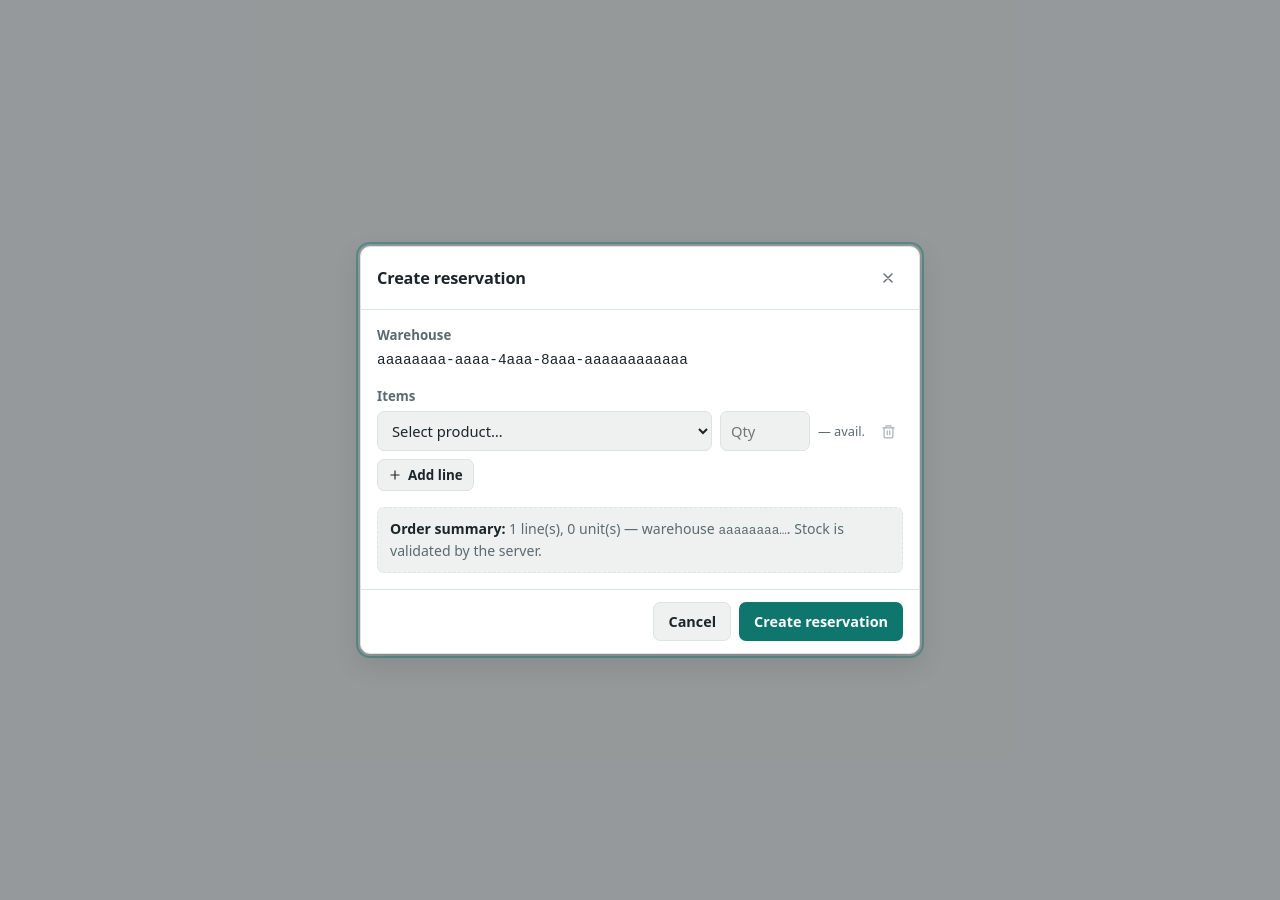
Test: CreateReservationModal › rejects duplicate products consistently with the backend contract
The image size is (1280, 900).
Select "bbbbbbbb…" in the dropdown named "Product for line". click: (544,431)
box: [377,411,712,451]
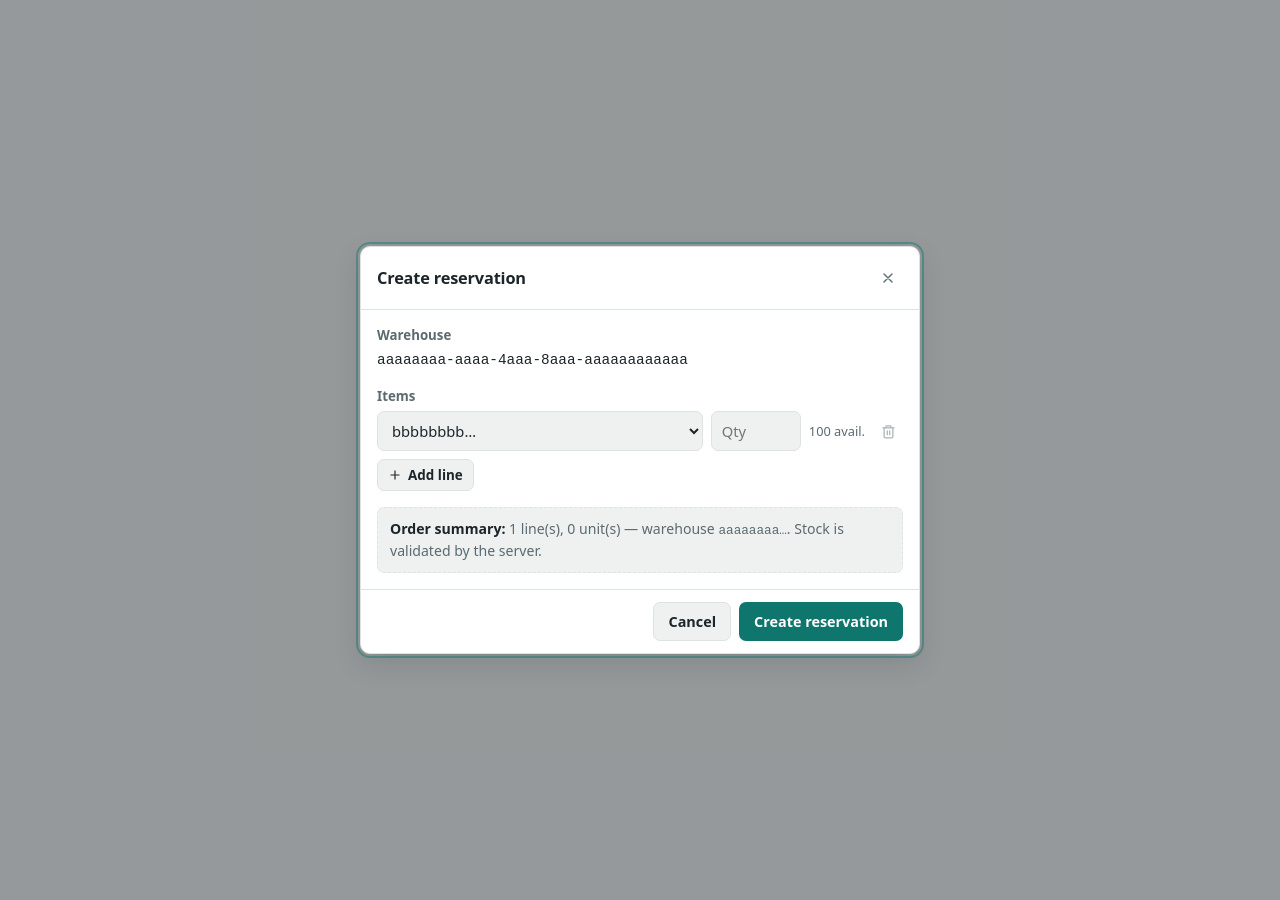
Type "2" into the field named "Quantity for line". click: (756,431)
box: [711,411,801,451]
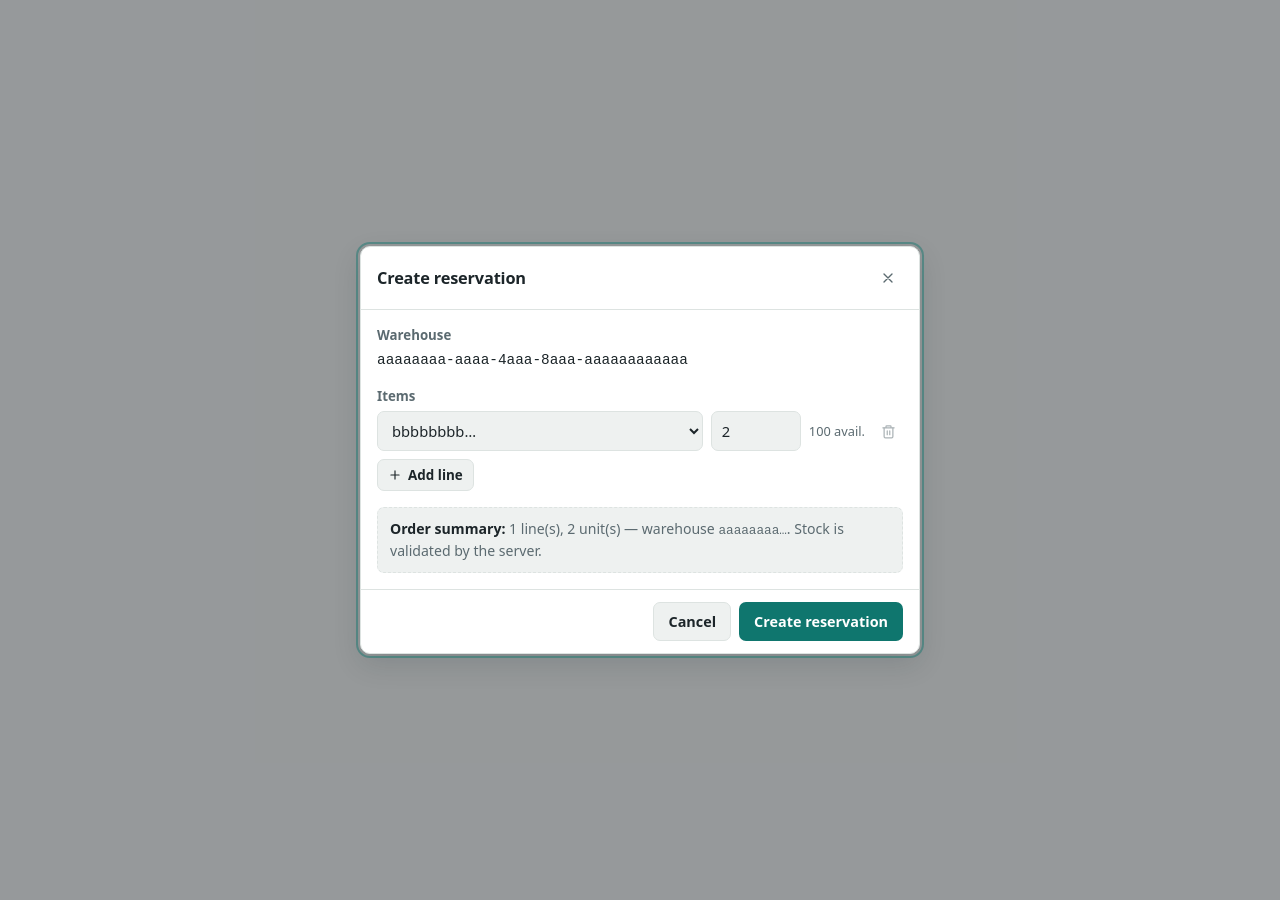
Click the button "Add line". click: (425,475)
box: [377,459,474,492]
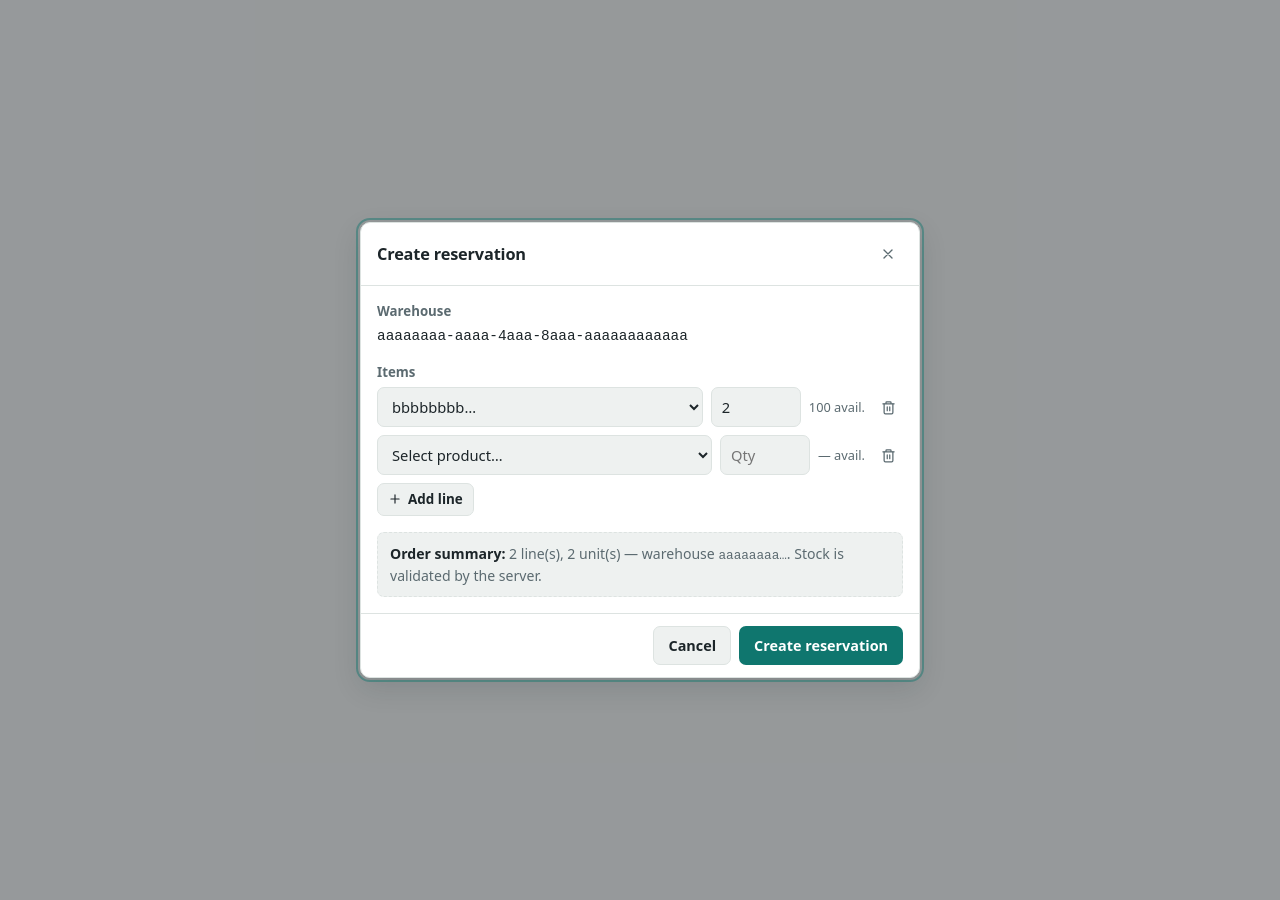
Select "bbbbbbbb…" in the dropdown named "Product for line" next to "— avail.". click: (544,455)
box: [377,435,712,475]
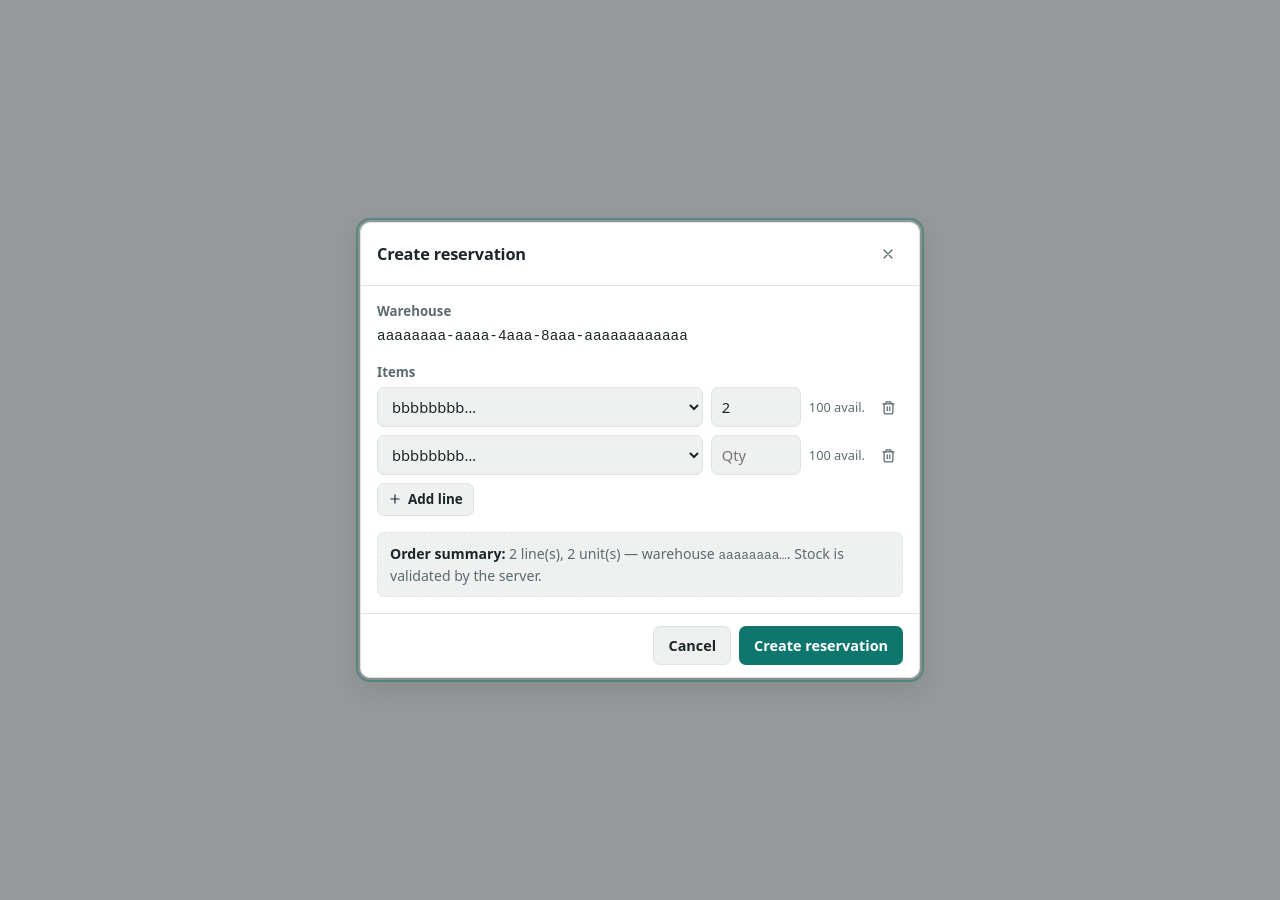
Type "3" into the field named "Quantity for line". click: (756,455)
box: [711,435,801,475]
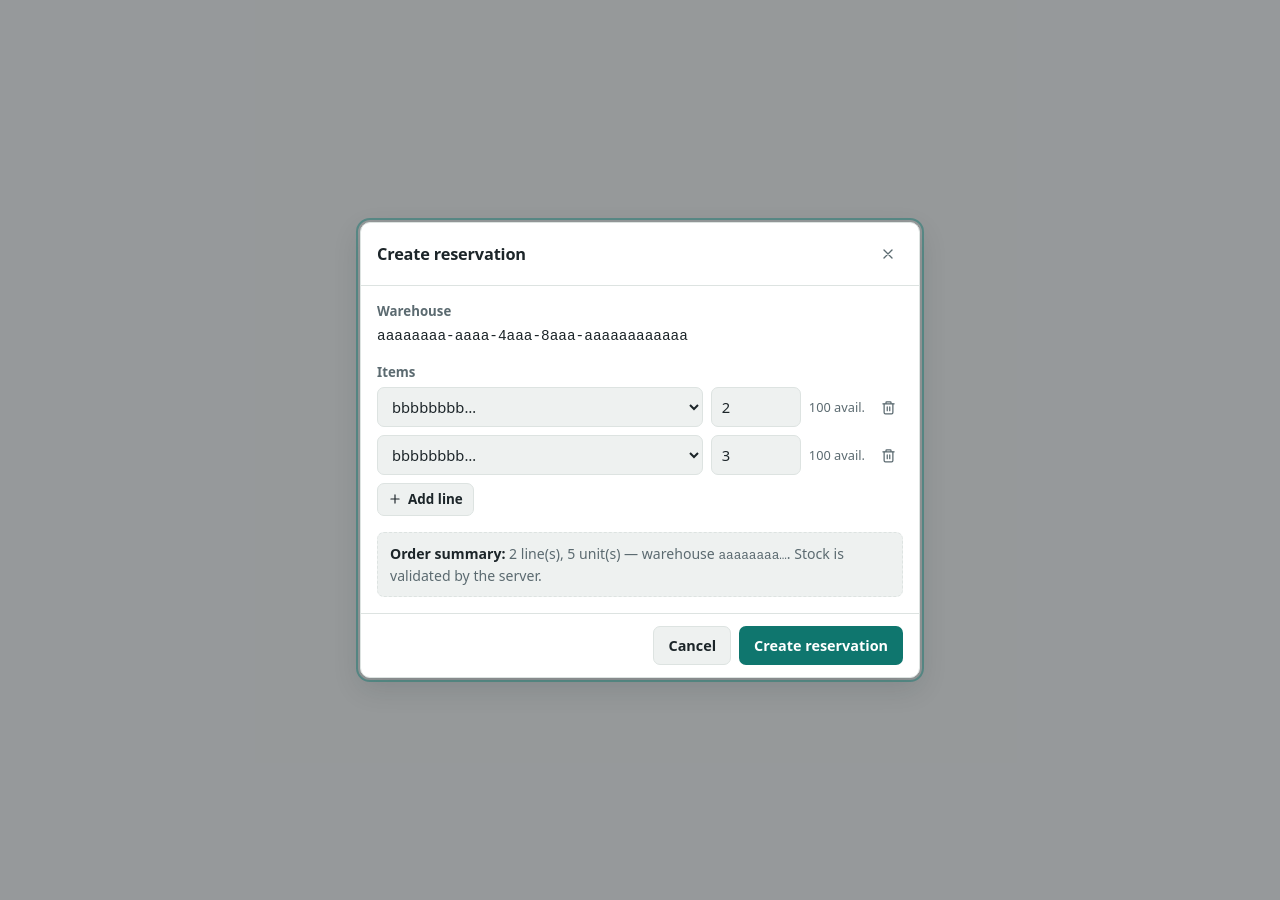
Submit the form with id "create-reservation-form", box [377,302,903,597]
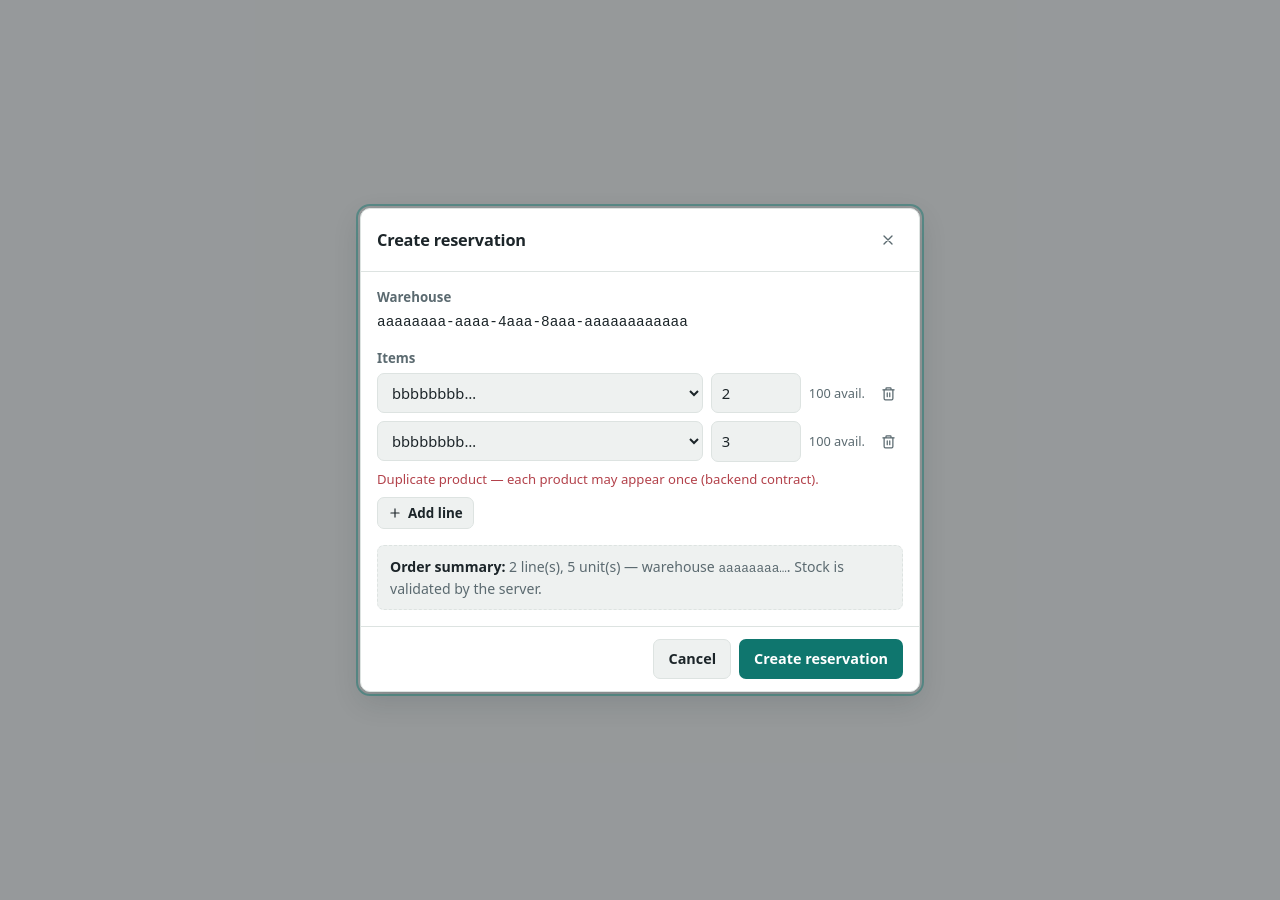
expect the text "Duplicate product" is shown: met, box [377,470,819,488]
